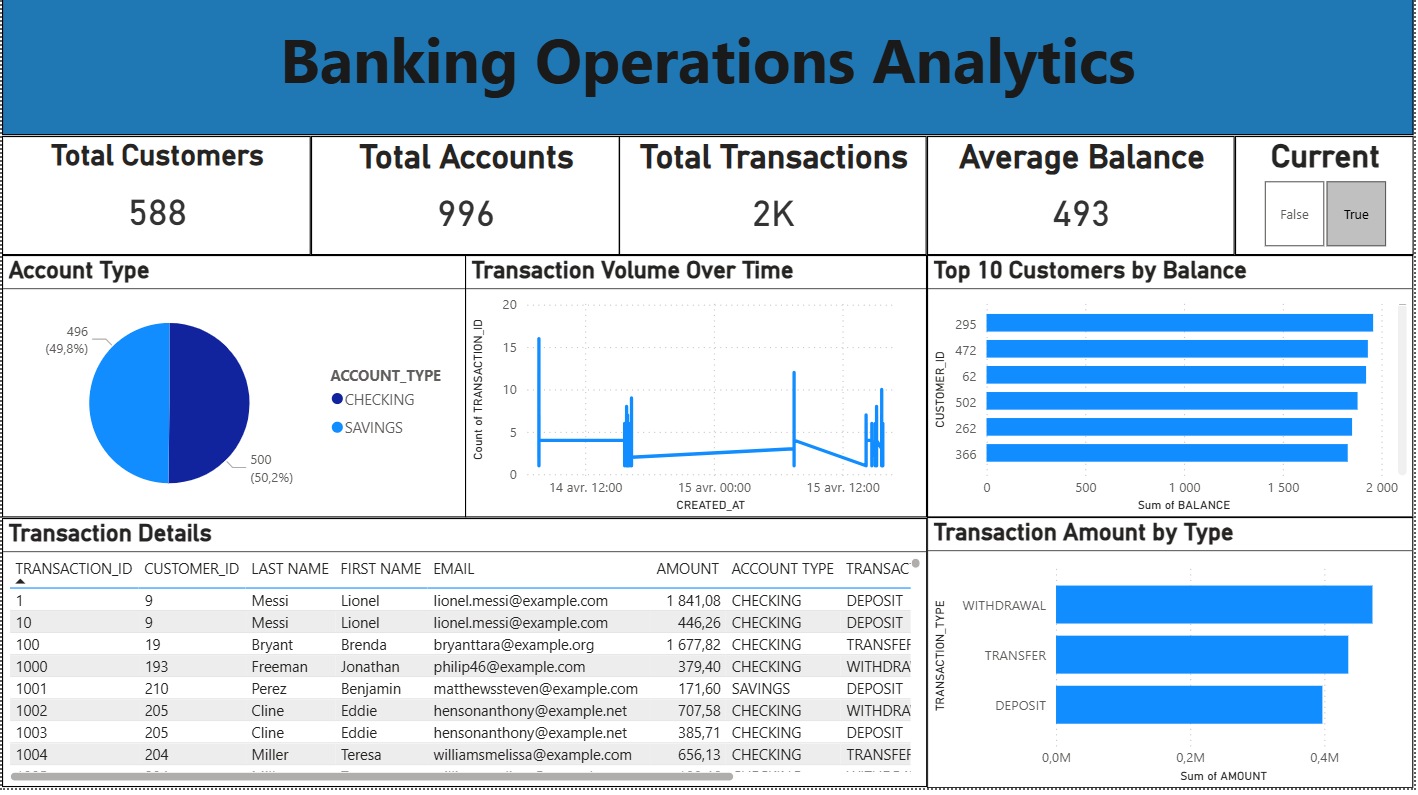

Layout of this report page (visuals, bound fields, positions):
{"tool":"powerbi","page":{"name":"Page 1","canvas":[1280,720],"ordinal":0},"visuals":[{"type":"slicer","title":"Current","fields":{"Values":["DIM_CUSTOMERS.IS_CURRENT"]},"box":[1117.7,128.5,162.3,107.7],"z":0},{"type":"textbox","box":[0,0,1280,128.3],"z":1000},{"type":"advanceCardE03760C5AB684758B56AA29F9E6C257B","title":"Total Customers","fields":{"mainMeasure":["Count(DIM_CUSTOMERS.CUSTOMER_ID)"]},"box":[0,128.3,280,108.3],"z":2000},{"type":"advanceCardE03760C5AB684758B56AA29F9E6C257B","title":"Total Accounts","fields":{"mainMeasure":["Count(DIM_ACCOUNTS.ACCOUNT_ID)"]},"box":[280.2,128.8,280.2,107.9],"z":3000},{"type":"advanceCardE03760C5AB684758B56AA29F9E6C257B","title":"Total Transactions","fields":{"mainMeasure":["Count(FACT_TRANSACTIONS.TRANSACTION_ID)"]},"box":[559.5,128.5,279.1,107.7],"z":4000},{"type":"advanceCardE03760C5AB684758B56AA29F9E6C257B","title":"Average Balance","fields":{"mainMeasure":["Avg(DIM_ACCOUNTS.BALANCE)"]},"box":[838.6,128.5,279.1,107.7],"z":5000},{"type":"pieChart","title":"Account Type","fields":{"Category":["DIM_ACCOUNTS.ACCOUNT_TYPE"],"Y":["CountNonNull(DIM_ACCOUNTS.ACCOUNT_ID)"]},"box":[0,236.3,420.6,237.6],"z":6000},{"type":"lineChart","title":"Transaction Volume Over Time","fields":{"Category":["DIM_ACCOUNTS.CREATED_AT"],"Y":["CountNonNull(FACT_TRANSACTIONS.TRANSACTION_ID)"]},"box":[420,236.7,418.9,237.8],"z":7000},{"type":"clusteredBarChart","title":"Top 10 Customers by Balance","fields":{"Category":["DIM_ACCOUNTS.CUSTOMER_ID"],"Y":["Sum(DIM_ACCOUNTS.BALANCE)"]},"box":[838.9,236.7,441.1,237.8],"z":8000},{"type":"barChart","title":"Transaction Amount by Type","fields":{"Category":["FACT_TRANSACTIONS.TRANSACTION_TYPE"],"Y":["Sum(FACT_TRANSACTIONS.AMOUNT)"]},"box":[838.9,474.4,441.1,245.6],"z":9000},{"type":"tableEx","title":"Transaction Details","fields":{"Values":["FACT_TRANSACTIONS.TRANSACTION_ID","DIM_CUSTOMERS.CUSTOMER_ID","DIM_CUSTOMERS.LAST_NAME","DIM_CUSTOMERS.FIRST_NAME","DIM_CUSTOMERS.EMAIL","Sum(FACT_TRANSACTIONS.AMOUNT)","DIM_ACCOUNTS.ACCOUNT_TYPE","FACT_TRANSACTIONS.TRANSACTION_TYPE","FACT_TRANSACTIONS.TRANSACTION_TIME"]},"box":[0,475.6,838.9,244.4],"z":10000}]}

Visuals, with their boxes in screenshot pixels (x1, y1, x2, y2), scaled from the page's 1280x720 canvas onto the 1418x795 screenshot:
"Current" slicer: region(1238, 142, 1417, 261)
textbox: region(0, 0, 1417, 142)
"Total Customers" advanceCardE03760C5AB684758B56AA29F9E6C257B: region(0, 142, 310, 261)
"Total Accounts" advanceCardE03760C5AB684758B56AA29F9E6C257B: region(310, 142, 621, 261)
"Total Transactions" advanceCardE03760C5AB684758B56AA29F9E6C257B: region(620, 142, 929, 261)
"Average Balance" advanceCardE03760C5AB684758B56AA29F9E6C257B: region(929, 142, 1238, 261)
"Account Type" pieChart: region(0, 261, 466, 523)
"Transaction Volume Over Time" lineChart: region(465, 261, 929, 524)
"Top 10 Customers by Balance" clusteredBarChart: region(929, 261, 1417, 524)
"Transaction Amount by Type" barChart: region(929, 524, 1417, 794)
"Transaction Details" tableEx: region(0, 525, 929, 794)
